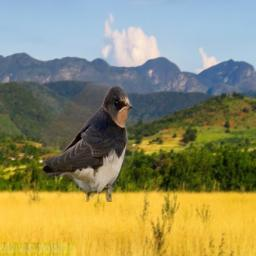Swallow: (41, 83, 132, 202)
